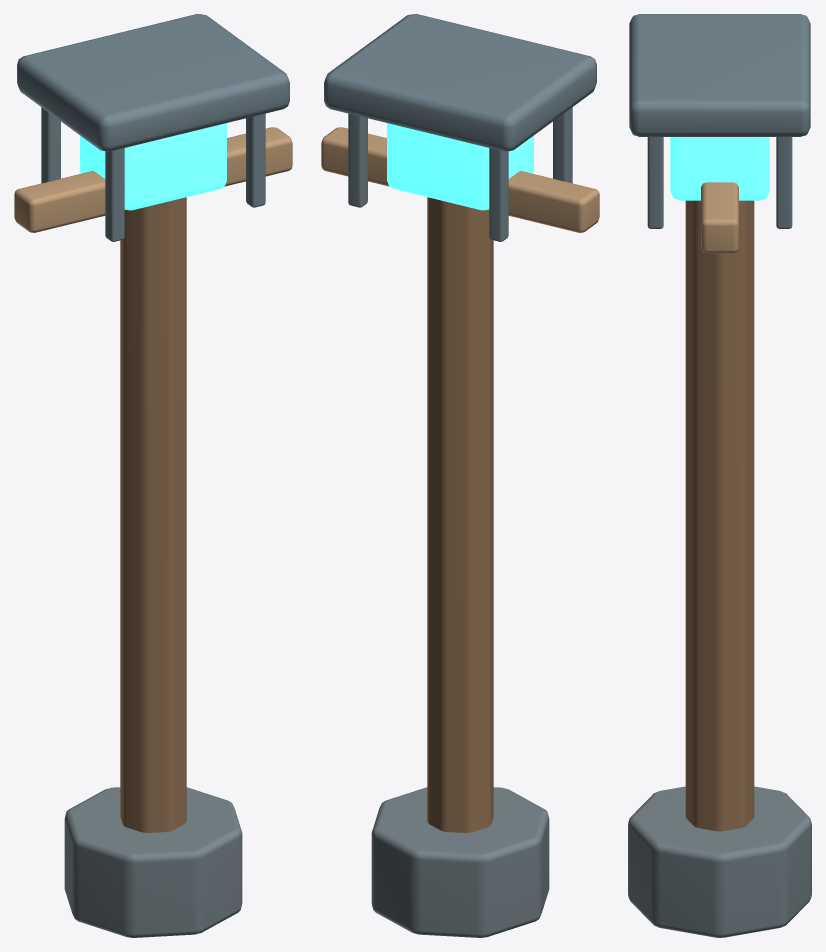
Rendered from SM_LanternPost_01.fbx.
3 views of the same model, side by side, from view 1: azimuth 30°, elevation 25°; view 2: azimuth 150°, elevation 25°; view 3: azimuth 270°, elevation 25° (orthographic).
Visible parts, largest first — view 1: SM_LanternPost_01; view 2: SM_LanternPost_01; view 3: SM_LanternPost_01.
Boxes of the visible parts, left/top/right/bottom form: SM_LanternPost_01: left=14, top=14, right=292, bottom=937; SM_LanternPost_01: left=321, top=14, right=599, bottom=937; SM_LanternPost_01: left=628, top=14, right=811, bottom=937.
Bounding box in the file's own units: 1.05 × 3.19 × 0.6288.
